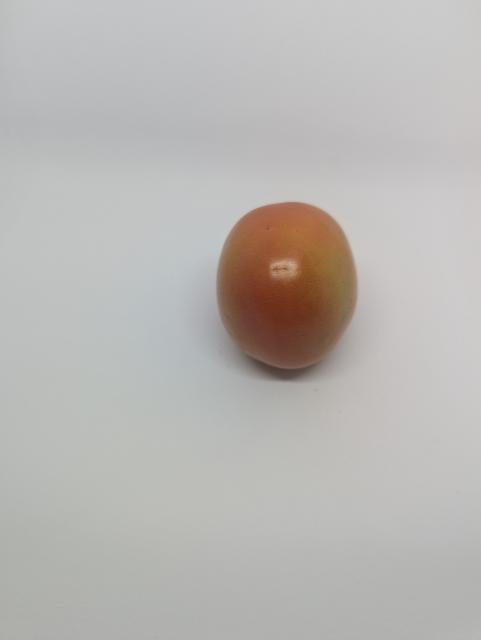turning: (213, 195, 362, 377)
